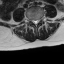CCS_normal: (34, 17, 36, 28)
LFS_normal: (39, 16, 41, 23)
LLS_normal: (36, 17, 39, 24)
RFS_stenosis: (29, 16, 32, 23)
RLS_normal: (32, 17, 34, 25)
